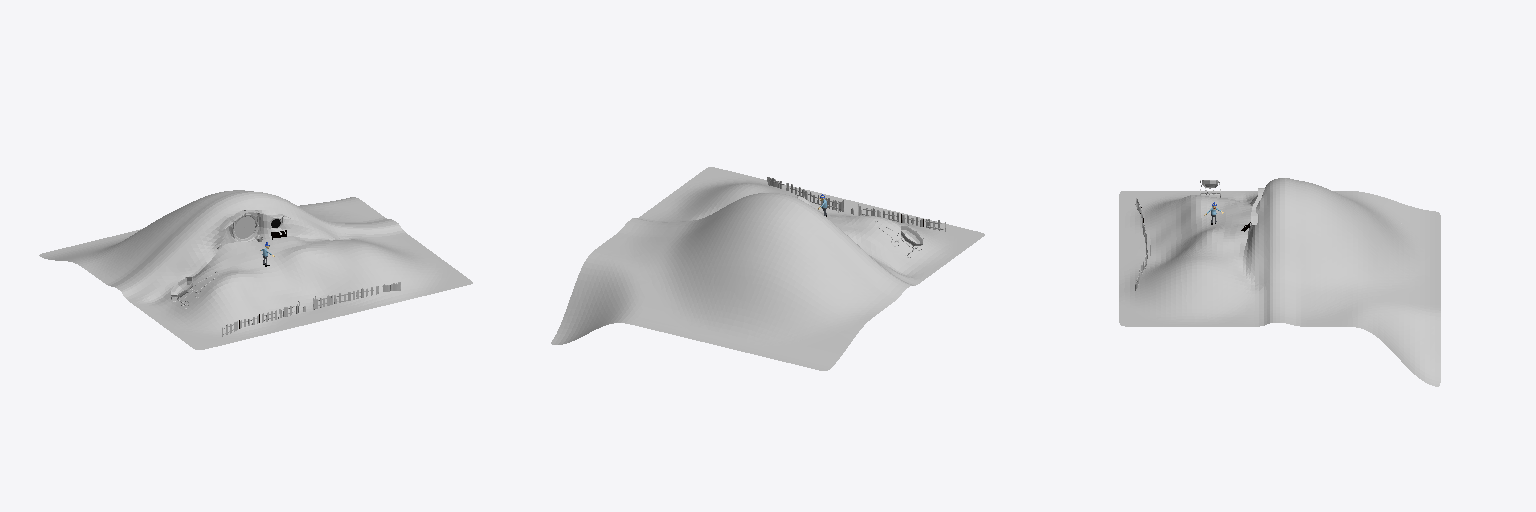
Rendered from casa6.obj.
3 views of the same model, side by side, from view 1: azimuth 30°, elevation 25°; view 2: azimuth 150°, elevation 25°; view 3: azimuth 270°, elevation 25° (orthographic).
Parts seen in each view (by area): view 1: Boden; view 2: Boden; view 3: Boden.
Boxes of the visible parts, <box> form: Boden: <box>39,190,472,349</box>; Boden: <box>551,167,984,370</box>; Boden: <box>1119,178,1440,386</box>.
Bounding box in the file's own units: 20 × 8.74 × 20.